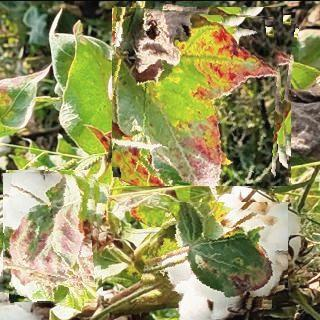blight: (112, 4, 293, 185), (144, 201, 288, 307), (3, 169, 104, 306)
